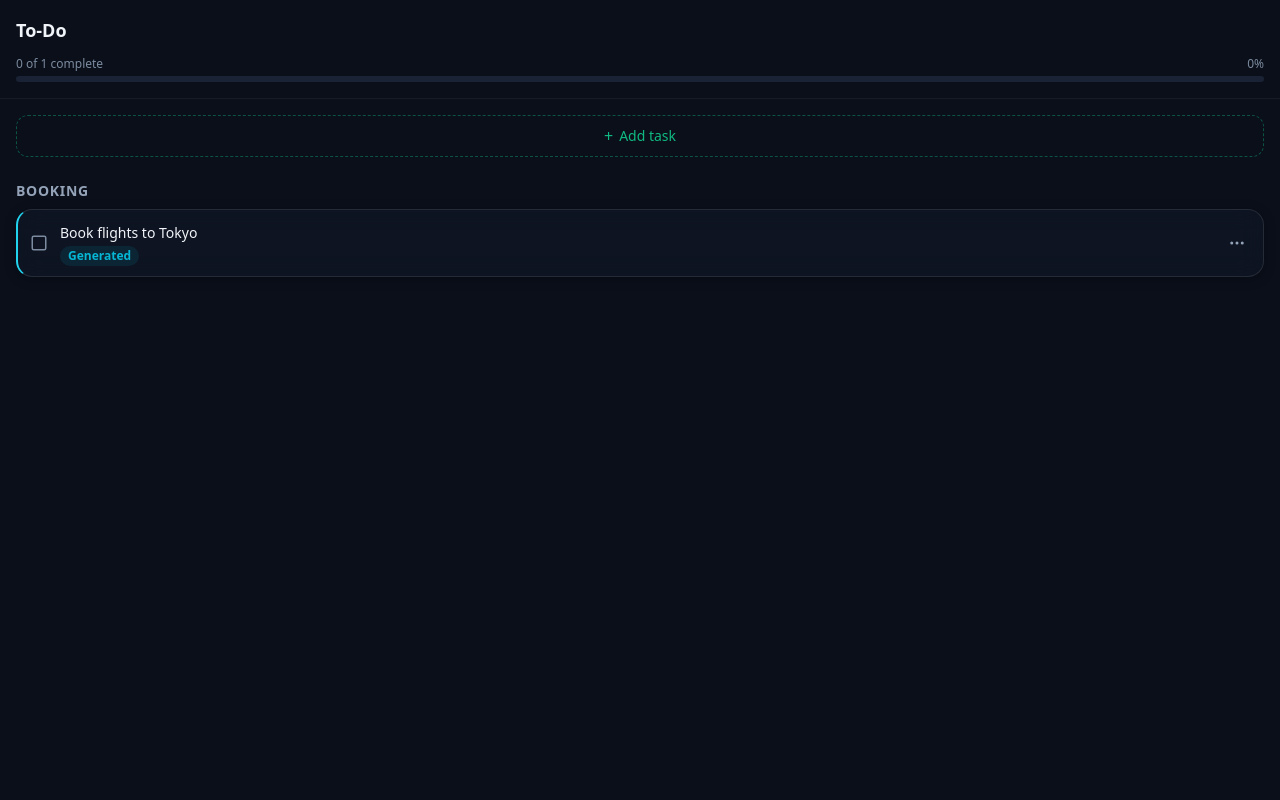
Test: TodoList › reaches the editor directly from the pencil
Click the button named "More actions for" at [1237, 243], box [1215, 221, 1259, 265]
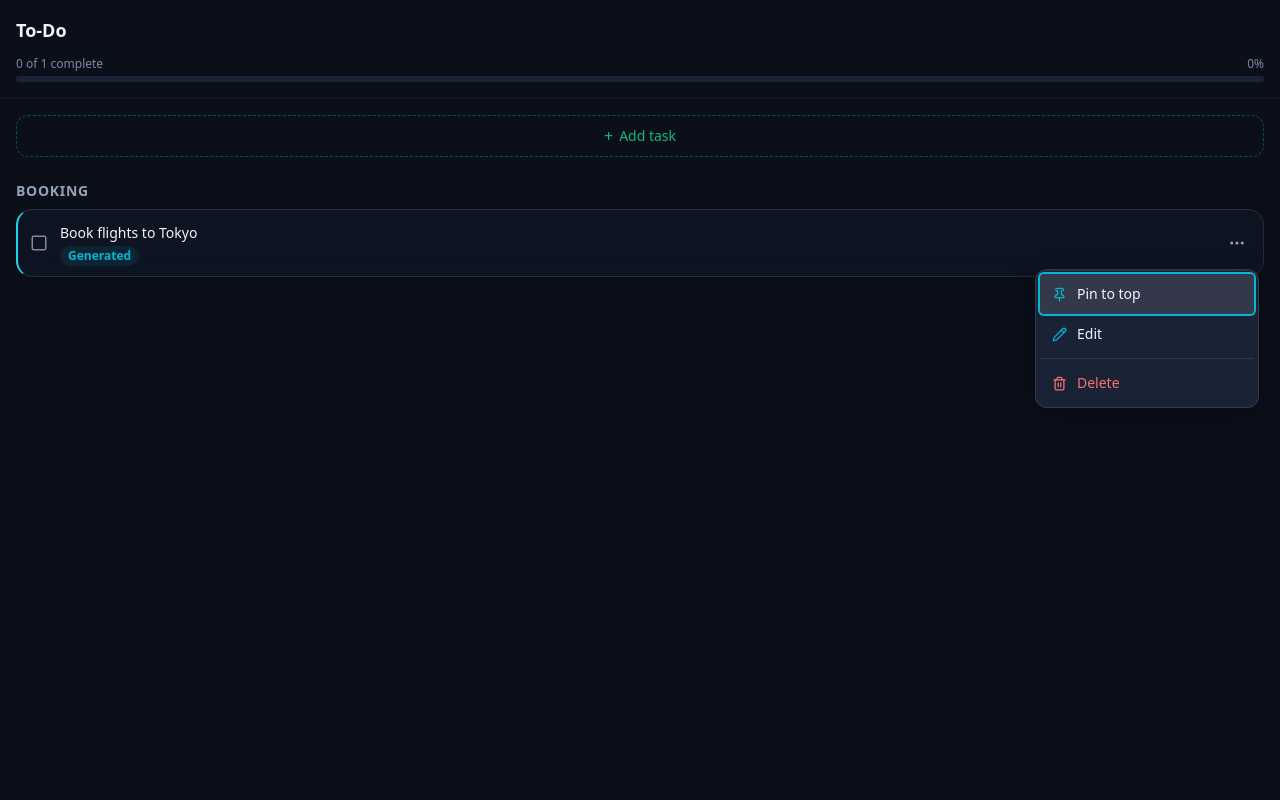
Click the menu item with test id "task-edit" at [1147, 334], box [1040, 314, 1254, 354]
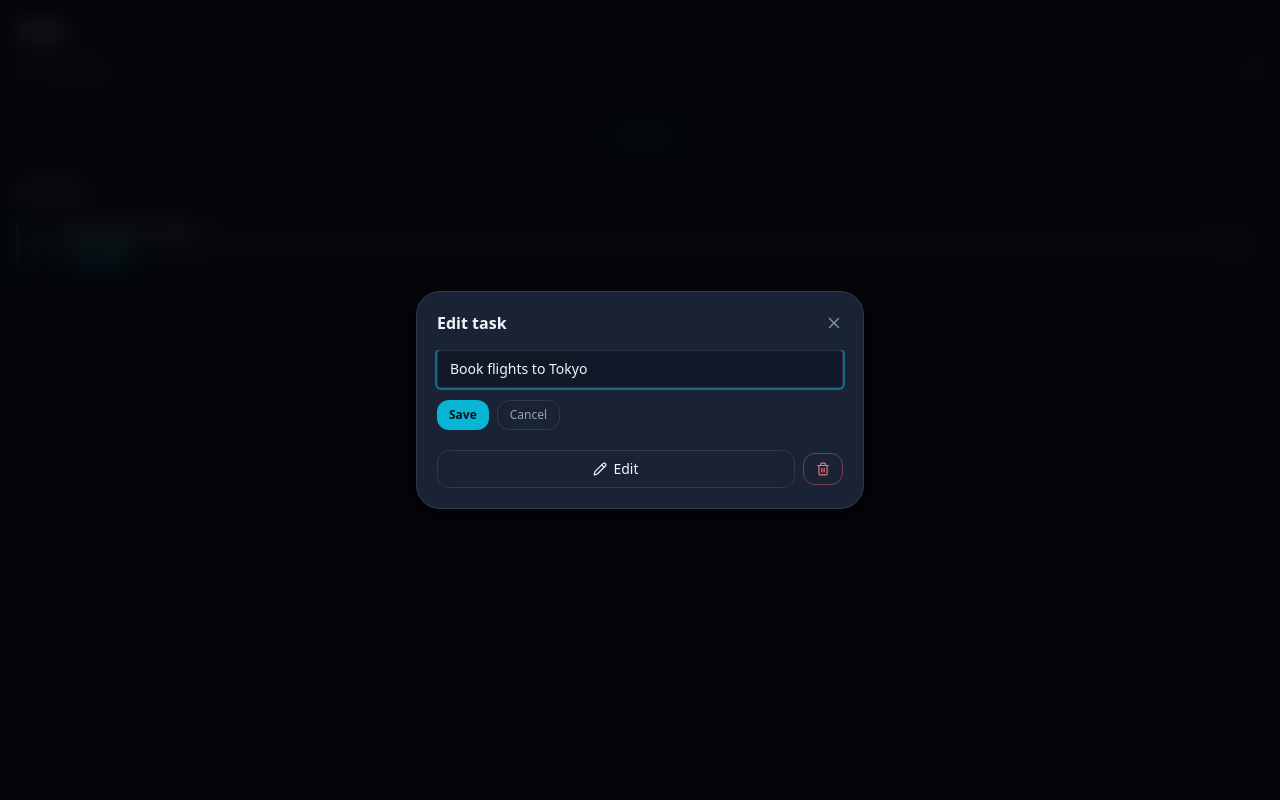
Expected: the field named "Edit title" is shown, [437, 350, 843, 388]
